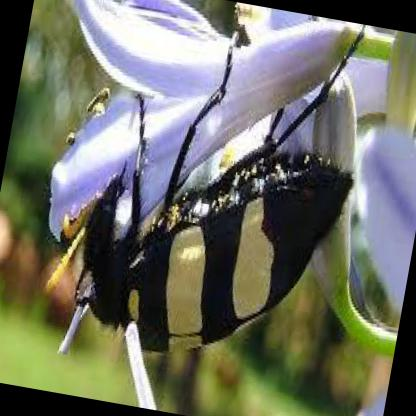blister beetle: (76, 38, 361, 356)
